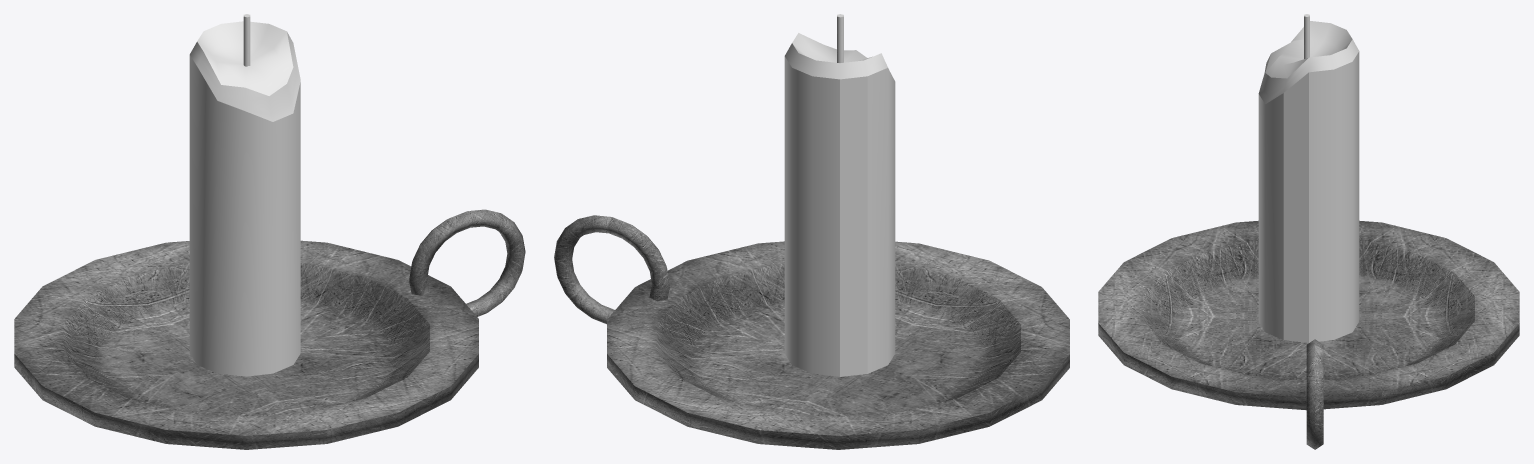
File: Candle_.fbx
The picture shows the model from 3 angles, left to right: view 1: azimuth 30°, elevation 25°; view 2: azimuth 150°, elevation 25°; view 3: azimuth 270°, elevation 25°; orthographic projection. The views are drawn at different scales.
Parts seen in each view (by area): view 1: Cylinder001, candle_body2, Torus001; view 2: Cylinder001, candle_body2, Torus001; view 3: Cylinder001, candle_body2, Torus001.
Part boxes in pixels (x1,y1,x2,y2): Cylinder001: (14, 240, 478, 449); candle_body2: (189, 21, 300, 376); Torus001: (409, 209, 525, 316); Cylinder001: (607, 241, 1069, 449); candle_body2: (784, 33, 895, 376); Torus001: (554, 215, 669, 324); Cylinder001: (1098, 220, 1519, 410); candle_body2: (1258, 21, 1359, 342); Torus001: (1306, 339, 1323, 449).
Size of the model in its own units: 209 by 149 by 173.
